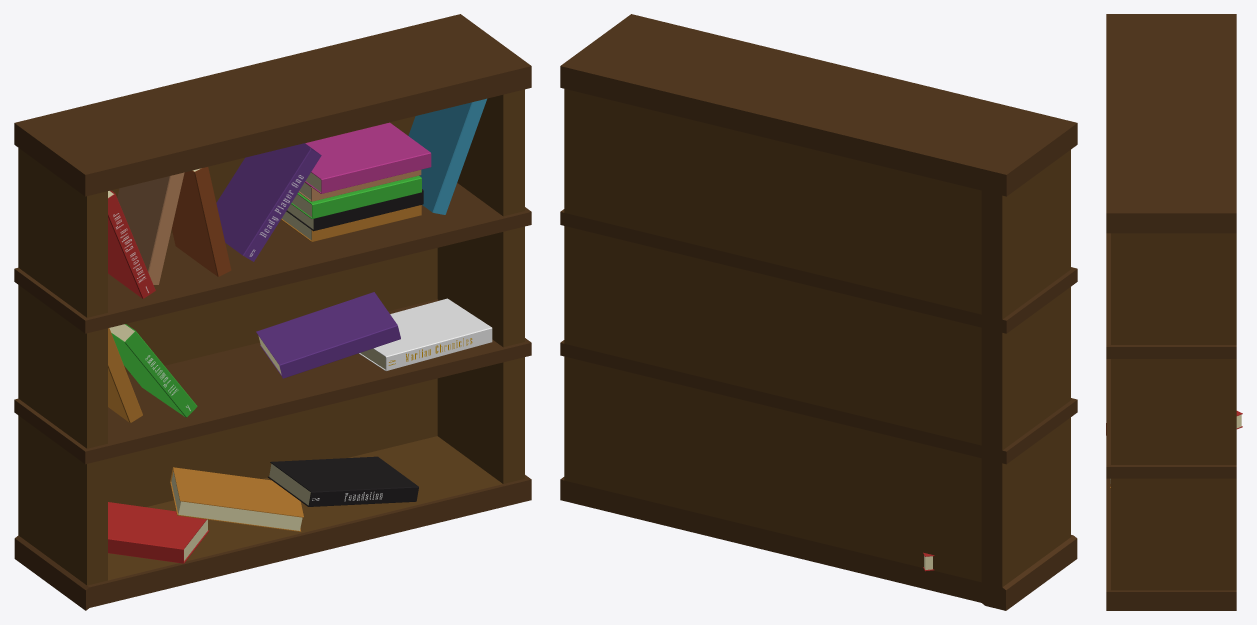
The model's file is Bookshelf.glb.
3 views of the same model, side by side, from view 1: azimuth 30°, elevation 25°; view 2: azimuth 150°, elevation 25°; view 3: azimuth 270°, elevation 25° (orthographic). The views are drawn at different scales.
Parts seen in each view (by area): view 1: BookCase, Book.011, Book.005, Book.014, Book.009, Book.021, Book.010, Book.003, Book.004, Book.008, Book.002, Book.007 (+6 smaller); view 2: BookCase; view 3: BookCase.
Part boxes in pixels (x1=…): BookCase: x1=14, y1=14, x2=531, y2=610; Book.011: x1=256, y1=292, x2=400, y2=378; Book.005: x1=216, y1=143, x2=321, y2=261; Book.014: x1=170, y1=467, x2=303, y2=531; Book.009: x1=268, y1=456, x2=418, y2=506; Book.021: x1=305, y1=122, x2=431, y2=193; Book.010: x1=359, y1=298, x2=492, y2=370; Book.003: x1=408, y1=98, x2=486, y2=214; Book.004: x1=108, y1=502, x2=209, y2=563; Book.008: x1=172, y1=167, x2=231, y2=276; Book.002: x1=117, y1=172, x2=184, y2=284; Book.007: x1=109, y1=324, x2=197, y2=417; BookCase: x1=560, y1=14, x2=1077, y2=610; BookCase: x1=1106, y1=14, x2=1236, y2=610.
Size of the model in its own units: 4.24 by 3.96 by 1.23.
